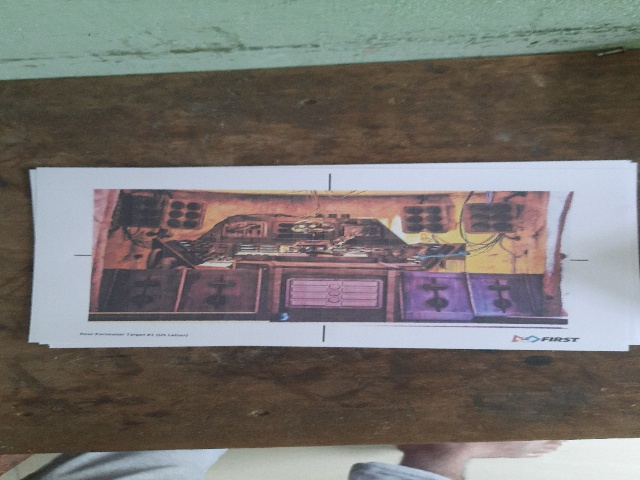rept1: (65, 175, 594, 342)
